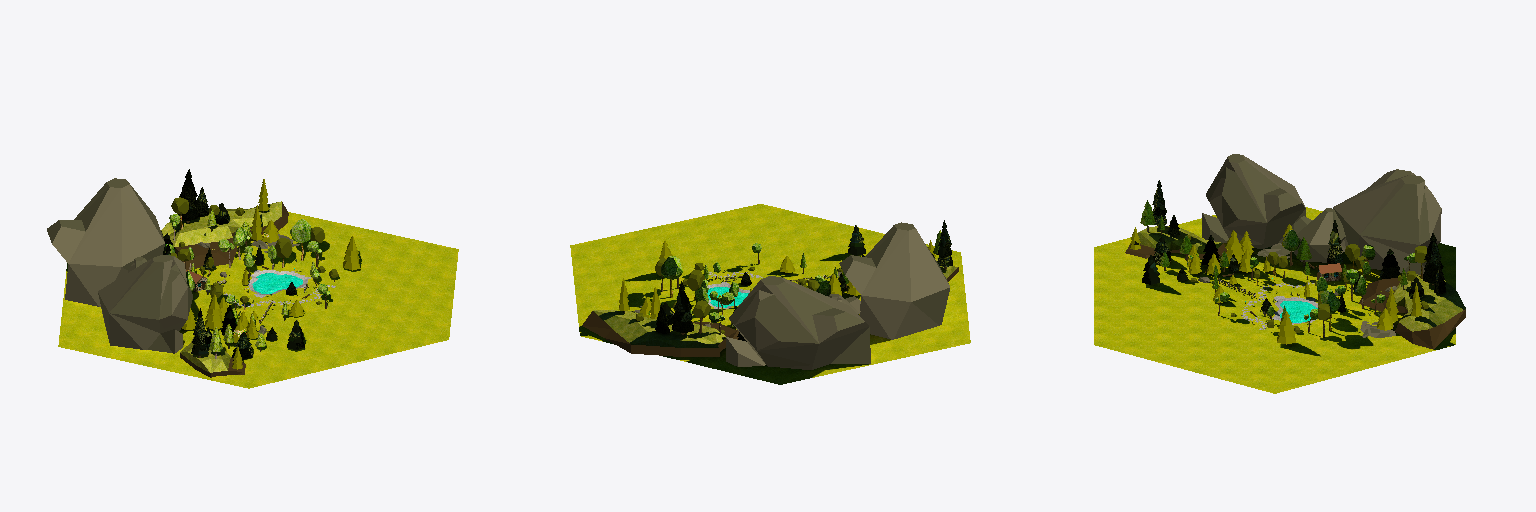
3 renders of one model, left to right at view 1: azimuth 30°, elevation 25°; view 2: azimuth 150°, elevation 25°; view 3: azimuth 270°, elevation 25°, orthographic.
Parts seen in each view (by area): view 1: Mesh439 G_3DGeom_9 Assembly_1 SimLab_skp Assembly_2 Model, Mesh278 G_3DGeom_4 Assembly_1 SimLab_skp Assembly_2 Model, Mesh285 G_3DGeom_4 Assembly_1 SimLab_skp Assembly_2 Model, Mesh248 G_3DGeom_3_1 Assembly_1 SimLab_skp Assembly_2 Model, Mesh108 G_3DGeom_1_1 Assembly_1 SimLab_skp Assembly_2 Model, Mesh251 G_3DGeom_3_1 Assembly_1 SimLab_skp Assembly_2 Model, Mesh351 G_3DGeom_6 Assembly_1 SimLab_skp Assembly_2 Model, Mesh279 G_3DGeom_4 Assembly_1 SimLab_skp Assembly_2 Model, Mesh109 G_3DGeom_1_1 Assembly_1 SimLab_skp Assembly_2 Model, Mesh566 G_3DGeom_11 Assembly_1 SimLab_skp Assembly_2 Model; view 2: Mesh439 G_3DGeom_9 Assembly_1 SimLab_skp Assembly_2 Model, Mesh279 G_3DGeom_4 Assembly_1 SimLab_skp Assembly_2 Model, Mesh278 G_3DGeom_4 Assembly_1 SimLab_skp Assembly_2 Model, Mesh108 G_3DGeom_1_1 Assembly_1 SimLab_skp Assembly_2 Model, Mesh251 G_3DGeom_3_1 Assembly_1 SimLab_skp Assembly_2 Model, Mesh351 G_3DGeom_6 Assembly_1 SimLab_skp Assembly_2 Model, Mesh252 G_3DGeom_3_1 Assembly_1 SimLab_skp Assembly_2 Model, Mesh248 G_3DGeom_3_1 Assembly_1 SimLab_skp Assembly_2 Model, Mesh254 G_3DGeom_3_1 Assembly_1 SimLab_skp Assembly_2 Model, Mesh250 G_3DGeom_3_1 Assembly_1 SimLab_skp Assembly_2 Model, Mesh9 G_3DGeom_1 G_3DGeom_12 Assembly_1 SimLab_skp Assembly_2 Mo; view 3: Mesh439 G_3DGeom_9 Assembly_1 SimLab_skp Assembly_2 Model, Mesh248 G_3DGeom_3_1 Assembly_1 SimLab_skp Assembly_2 Model, Mesh278 G_3DGeom_4 Assembly_1 SimLab_skp Assembly_2 Model, Mesh251 G_3DGeom_3_1 Assembly_1 SimLab_skp Assembly_2 Model, Mesh108 G_3DGeom_1_1 Assembly_1 SimLab_skp Assembly_2 Model, Mesh351 G_3DGeom_6 Assembly_1 SimLab_skp Assembly_2 Model, Mesh244 G_3DGeom_3_1 Assembly_1 SimLab_skp Assembly_2 Model, Mesh285 G_3DGeom_4 Assembly_1 SimLab_skp Assembly_2 Model, Mesh109 G_3DGeom_1_1 Assembly_1 SimLab_skp Assembly_2 Model, Mesh9 G_3DGeom_1 G_3DGeom_12 Assembly_1 SimLab_skp Assembly_2 Mo.
Part boxes in pixels (x1,y1,x2,y2): Mesh439 G_3DGeom_9 Assembly_1 SimLab_skp Assembly_2 Model: (58, 212, 458, 388); Mesh278 G_3DGeom_4 Assembly_1 SimLab_skp Assembly_2 Model: (52, 184, 164, 306); Mesh285 G_3DGeom_4 Assembly_1 SimLab_skp Assembly_2 Model: (109, 273, 187, 349); Mesh248 G_3DGeom_3_1 Assembly_1 SimLab_skp Assembly_2 Model: (110, 255, 192, 319); Mesh108 G_3DGeom_1_1 Assembly_1 SimLab_skp Assembly_2 Model: (161, 201, 281, 246); Mesh251 G_3DGeom_3_1 Assembly_1 SimLab_skp Assembly_2 Model: (47, 178, 164, 242); Mesh351 G_3DGeom_6 Assembly_1 SimLab_skp Assembly_2 Model: (175, 202, 288, 269); Mesh279 G_3DGeom_4 Assembly_1 SimLab_skp Assembly_2 Model: (98, 258, 153, 330); Mesh109 G_3DGeom_1_1 Assembly_1 SimLab_skp Assembly_2 Model: (180, 334, 230, 372); Mesh566 G_3DGeom_11 Assembly_1 SimLab_skp Assembly_2 Model: (252, 273, 302, 293); Mesh439 G_3DGeom_9 Assembly_1 SimLab_skp Assembly_2 Model: (570, 204, 970, 384); Mesh279 G_3DGeom_4 Assembly_1 SimLab_skp Assembly_2 Model: (845, 228, 949, 339); Mesh278 G_3DGeom_4 Assembly_1 SimLab_skp Assembly_2 Model: (726, 278, 868, 369); Mesh108 G_3DGeom_1_1 Assembly_1 SimLab_skp Assembly_2 Model: (593, 310, 725, 347); Mesh251 G_3DGeom_3_1 Assembly_1 SimLab_skp Assembly_2 Model: (729, 276, 863, 342); Mesh351 G_3DGeom_6 Assembly_1 SimLab_skp Assembly_2 Model: (582, 311, 738, 356); Mesh252 G_3DGeom_3_1 Assembly_1 SimLab_skp Assembly_2 Model: (755, 295, 818, 343); Mesh248 G_3DGeom_3_1 Assembly_1 SimLab_skp Assembly_2 Model: (839, 222, 948, 283); Mesh254 G_3DGeom_3_1 Assembly_1 SimLab_skp Assembly_2 Model: (831, 327, 870, 363); Mesh250 G_3DGeom_3_1 Assembly_1 SimLab_skp Assembly_2 Model: (912, 288, 949, 325); Mesh9 G_3DGeom_1 G_3DGeom_12 Assembly_1 SimLab_skp Assembly_2 Mo: (672, 290, 693, 332); Mesh439 G_3DGeom_9 Assembly_1 SimLab_skp Assembly_2 Model: (1094, 207, 1455, 393); Mesh248 G_3DGeom_3_1 Assembly_1 SimLab_skp Assembly_2 Model: (1206, 154, 1305, 248); Mesh278 G_3DGeom_4 Assembly_1 SimLab_skp Assembly_2 Model: (1333, 170, 1441, 272); Mesh251 G_3DGeom_3_1 Assembly_1 SimLab_skp Assembly_2 Model: (1360, 169, 1429, 244); Mesh108 G_3DGeom_1_1 Assembly_1 SimLab_skp Assembly_2 Model: (1394, 274, 1465, 331); Mesh351 G_3DGeom_6 Assembly_1 SimLab_skp Assembly_2 Model: (1359, 278, 1465, 349); Mesh244 G_3DGeom_3_1 Assembly_1 SimLab_skp Assembly_2 Model: (1294, 208, 1359, 262); Mesh285 G_3DGeom_4 Assembly_1 SimLab_skp Assembly_2 Model: (1209, 178, 1266, 244); Mesh109 G_3DGeom_1_1 Assembly_1 SimLab_skp Assembly_2 Model: (1138, 226, 1222, 253); Mesh9 G_3DGeom_1 G_3DGeom_12 Assembly_1 SimLab_skp Assembly_2 Mo: (1423, 241, 1443, 283).
Bounding box in the file's own units: 103 × 20.27 × 82.5.
25 materials, 16 textured.